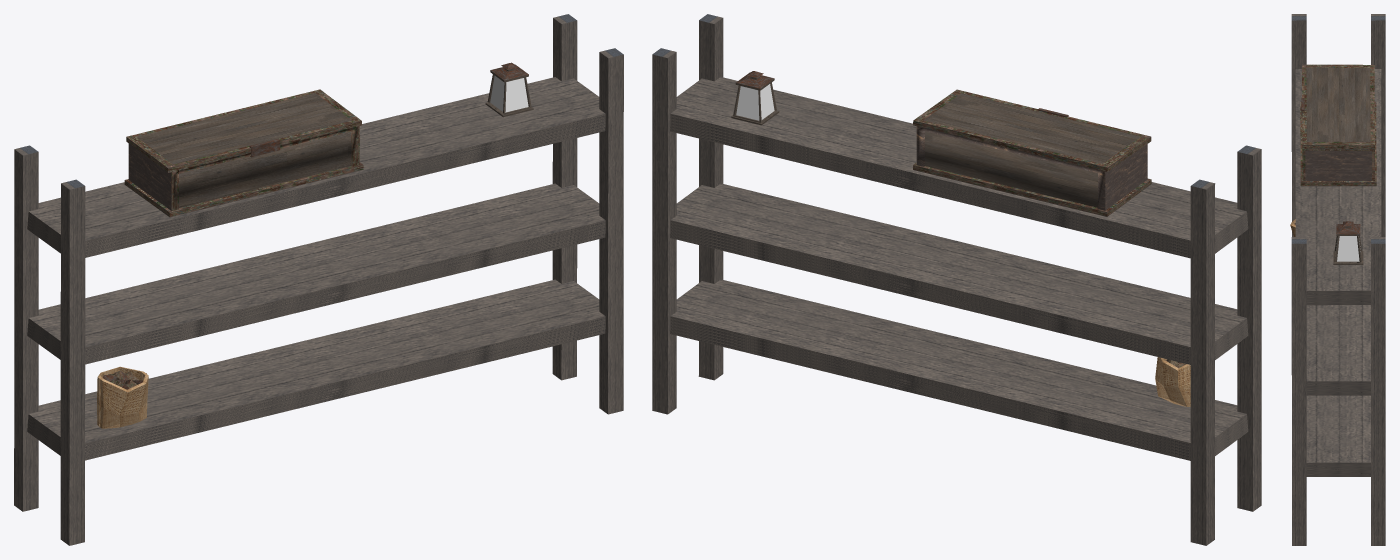
Rendered from shelf.fbx.
3 views of the same model, side by side, from view 1: azimuth 30°, elevation 25°; view 2: azimuth 150°, elevation 25°; view 3: azimuth 270°, elevation 25° (orthographic). The views are drawn at different scales.
Visible parts, largest first — view 1: Outside storage.047; view 2: Outside storage.047; view 3: Outside storage.047.
Boxes of the visible parts, x1,y1,x2,y2 form: Outside storage.047: (14,14,623,545); Outside storage.047: (652,14,1261,545); Outside storage.047: (1290,14,1385,545).
Bounding box in the file's own units: 1285 × 789 × 226.
Materials: 6 (4 with a texture image).
